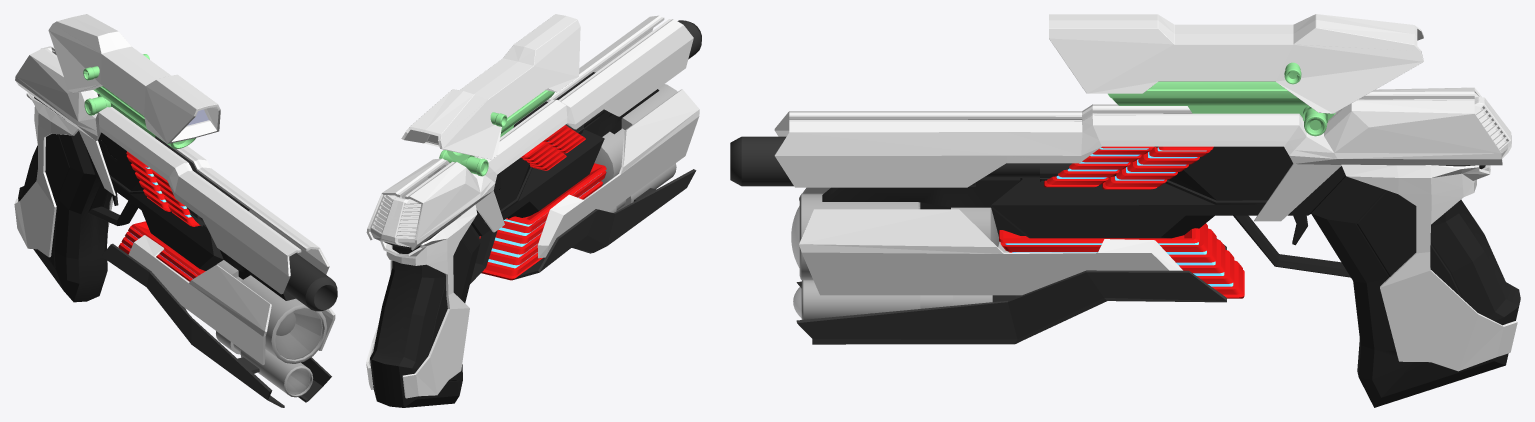
File: GunSciFi2.FBX
3 renders of one model, left to right at view 1: azimuth 30°, elevation 25°; view 2: azimuth 150°, elevation 25°; view 3: azimuth 270°, elevation 25°, orthographic. The views are drawn at different scales.
Visible parts, largest first — view 1: Wight, Base, Dulo, FlashLights, Glass; view 2: Wight, Base, Dulo, FlashLights; view 3: Wight, Base, Dulo, FlashLights.
Boxes of the visible parts, x1,y1,x2,y2 form: Wight: (14,14,335,364); Base: (18,94,295,302); Dulo: (83,54,337,407); FlashLights: (216,260,326,397); Glass: (187,109,322,394); Wight: (366,14,699,398); Base: (370,72,659,407); Dulo: (439,20,701,280); FlashLights: (594,84,677,212); Wight: (774,14,1517,371); Base: (822,119,1520,407); Dulo: (730,62,1335,344); FlashLights: (799,193,999,319).
Size of the model in its own units: 13.72 by 41.72 by 78.18.
